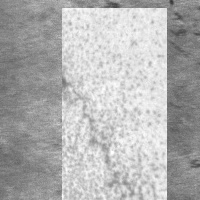pitted_surface: (62, 8, 167, 200)
rolled-in_scale: (71, 3, 129, 197), (121, 4, 192, 72)
